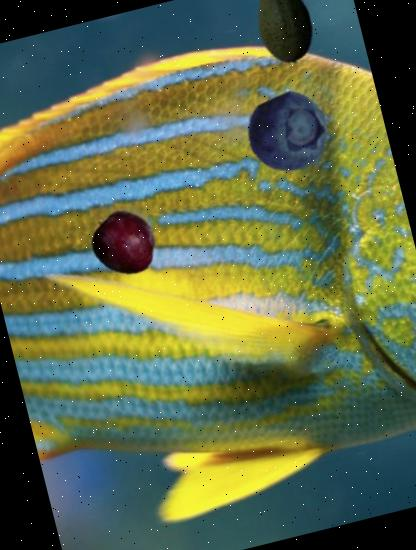Avocado: (234, 0, 336, 74)
Huckleberry: (240, 84, 338, 182)
Plum: (83, 202, 167, 286)
